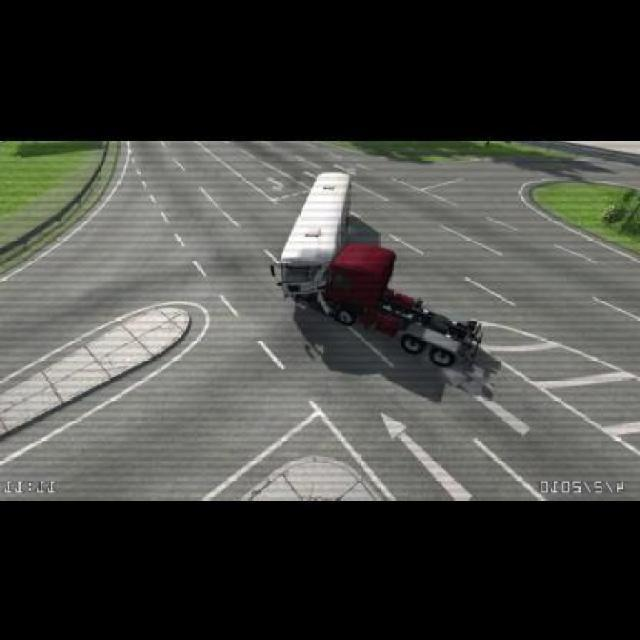accident: (272, 172, 520, 400)
